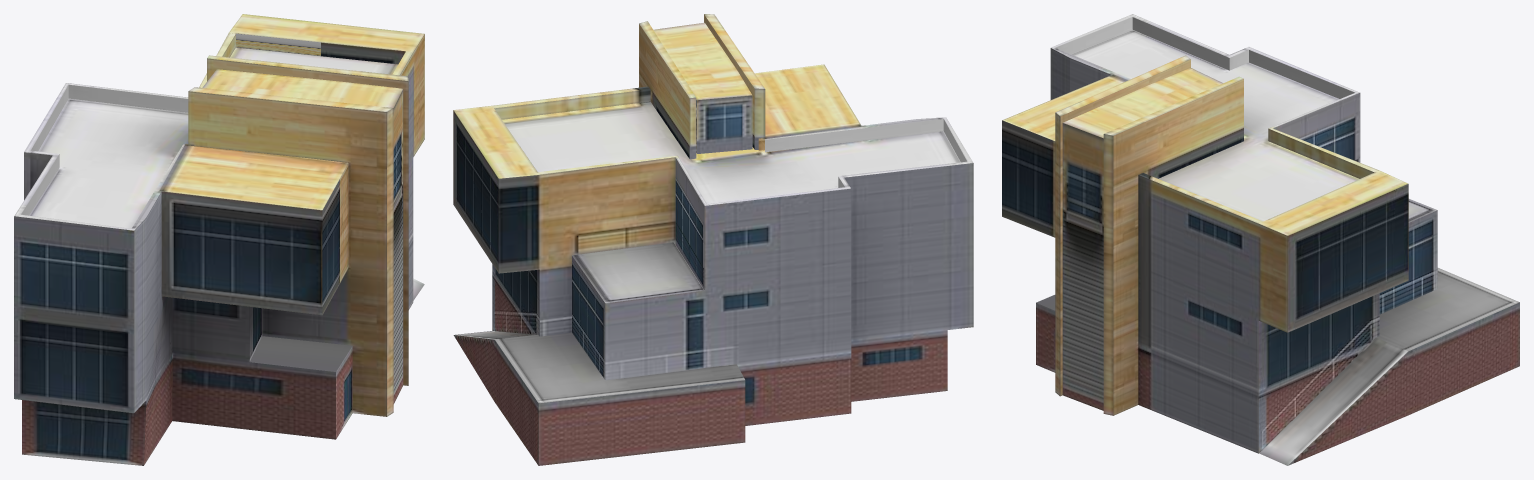
The picture shows the model from 3 angles, left to right: view 1: azimuth 30°, elevation 25°; view 2: azimuth 150°, elevation 25°; view 3: azimuth 270°, elevation 25°; orthographic projection. The views are drawn at different scales.
Parts seen in each view (by area): view 1: MainBuilding; view 2: MainBuilding; view 3: MainBuilding.
Boxes of the visible parts, box(x1,y1,x2,y2) form: MainBuilding: box(14, 14, 424, 465); MainBuilding: box(453, 14, 973, 465); MainBuilding: box(1002, 14, 1519, 465).
Bounding box in the file's own units: 1.7 × 0.9974 × 1.67.
1 material, 1 textured.
